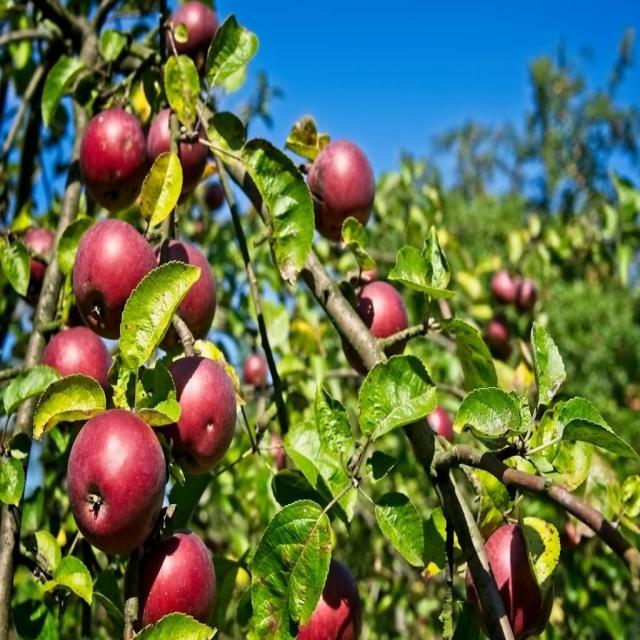Red Apple: (70, 408, 171, 540), (477, 523, 553, 633), (132, 530, 213, 624), (165, 353, 234, 460), (80, 214, 151, 315), (312, 141, 380, 234), (158, 236, 216, 328), (48, 330, 114, 408), (302, 561, 360, 640), (87, 114, 141, 196), (353, 279, 405, 349), (150, 111, 202, 178), (180, 5, 214, 61), (22, 229, 48, 269), (430, 405, 453, 438), (486, 322, 509, 350), (496, 271, 516, 301), (246, 358, 265, 385), (519, 278, 537, 304)
